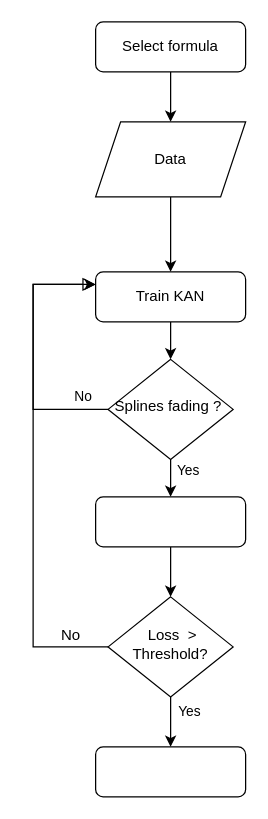
Some shapes in this 268 by 819 pixel diagram are drawn without their labels. Each missing label, with the centre of its shape:
"Generate Approx Formula" belongs at point 170,771.
"Prune KAN" belongs at point 170,521.
